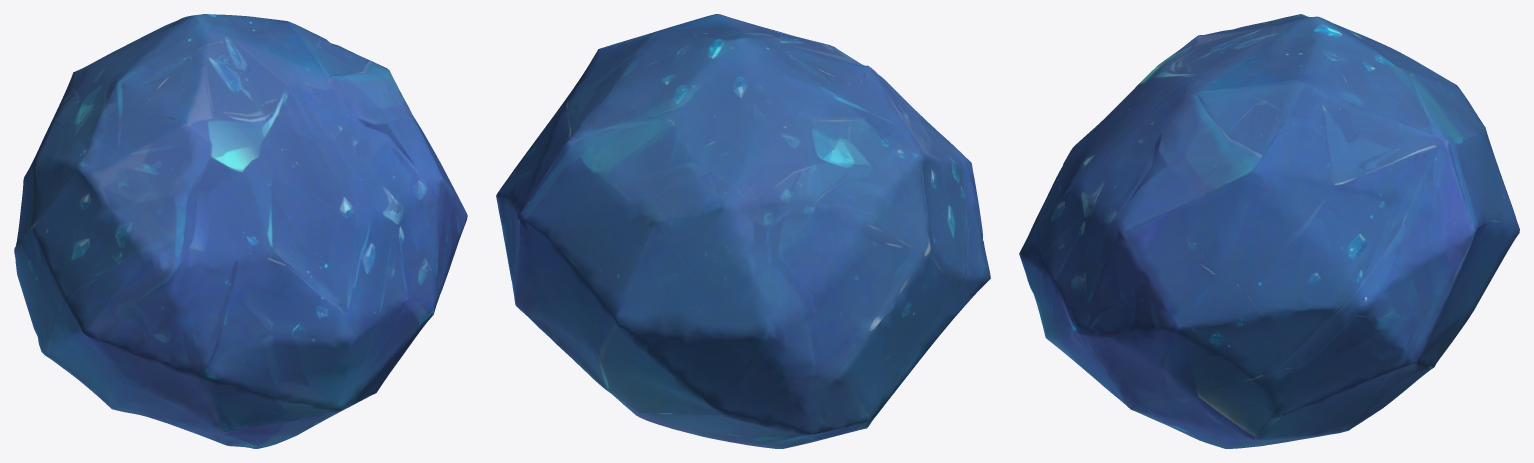
File: gem.glb
3 views of the same model, side by side, from view 1: azimuth 30°, elevation 25°; view 2: azimuth 150°, elevation 25°; view 3: azimuth 270°, elevation 25° (orthographic). The views are drawn at different scales.
Size of the model in its own units: 1.76 by 1.8 by 1.94.
1 material, 1 textured.
